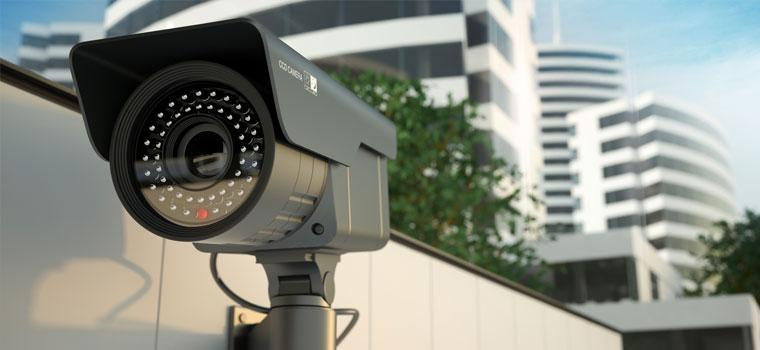CCTV: (70, 17, 396, 350)
